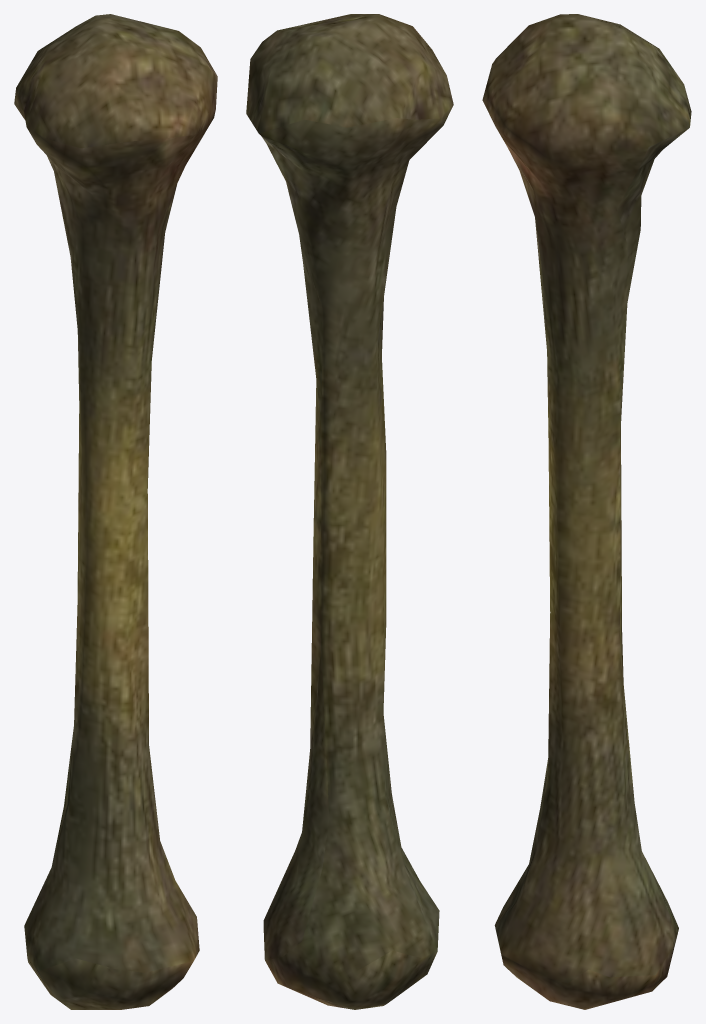
The model's file is Biomass - B 4-DSGIJpGQ.glb.
3 renders of one model, left to right at view 1: azimuth 30°, elevation 25°; view 2: azimuth 150°, elevation 25°; view 3: azimuth 270°, elevation 25°, orthographic.
Parts seen in each view (by area): view 1: BiomassB_4; view 2: BiomassB_4; view 3: BiomassB_4.
Boxes of the visible parts, <box> form: BiomassB_4: <box>14,14,217,1009</box>; BiomassB_4: <box>246,14,453,1009</box>; BiomassB_4: <box>482,14,691,1009</box>.
Size of the model in its own units: 0.3901 by 1.97 by 0.3835.
Materials: 1 (1 with a texture image).
